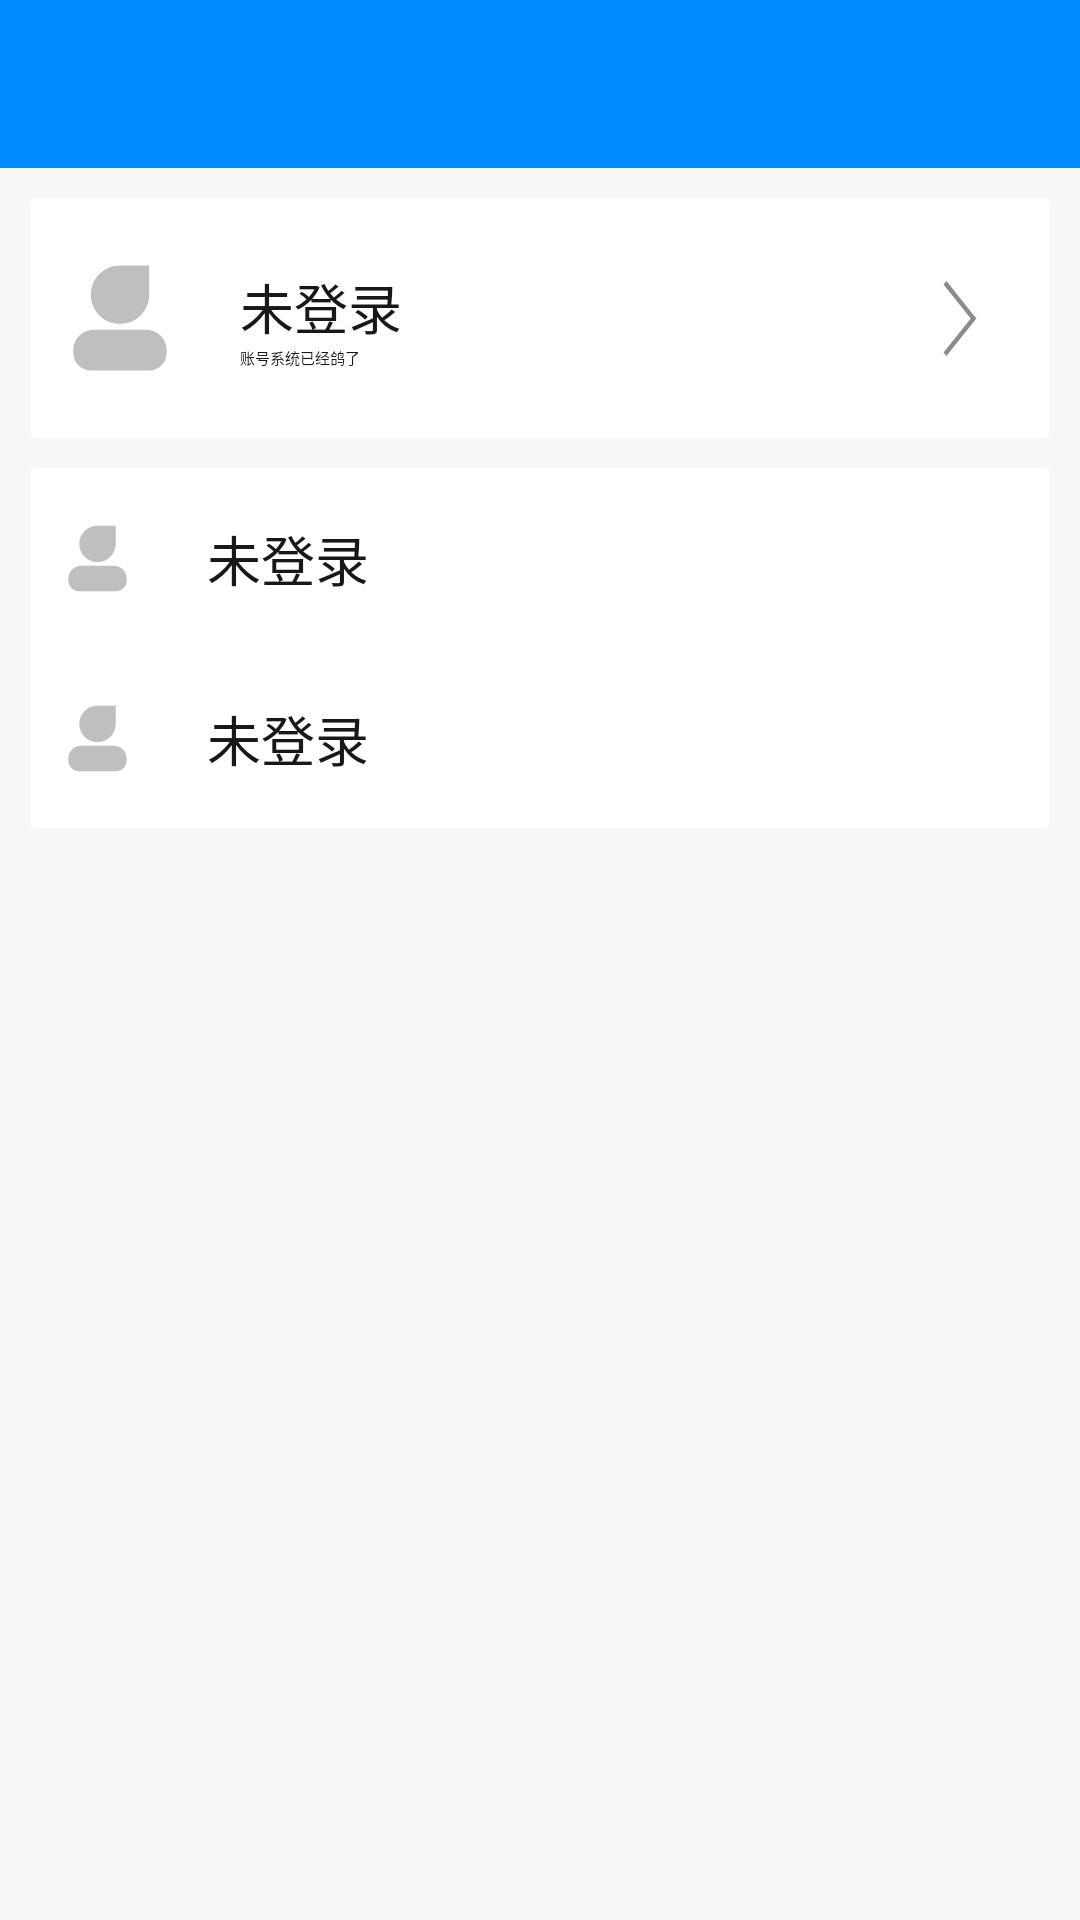

Named icons in this screenshot (1080px×1920px) and their bounding boxes, [x1,y1,x2,y2]:
sign in: [73,265,167,371], [68,526,127,591], [68,706,127,771]
